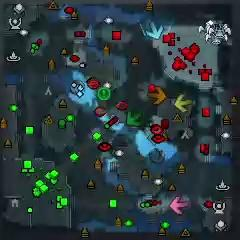x1: (170, 195, 190, 216)
x2: (174, 95, 192, 112)
x3: (146, 22, 163, 39)
x4: (126, 110, 144, 128)
x5: (147, 87, 166, 105)
